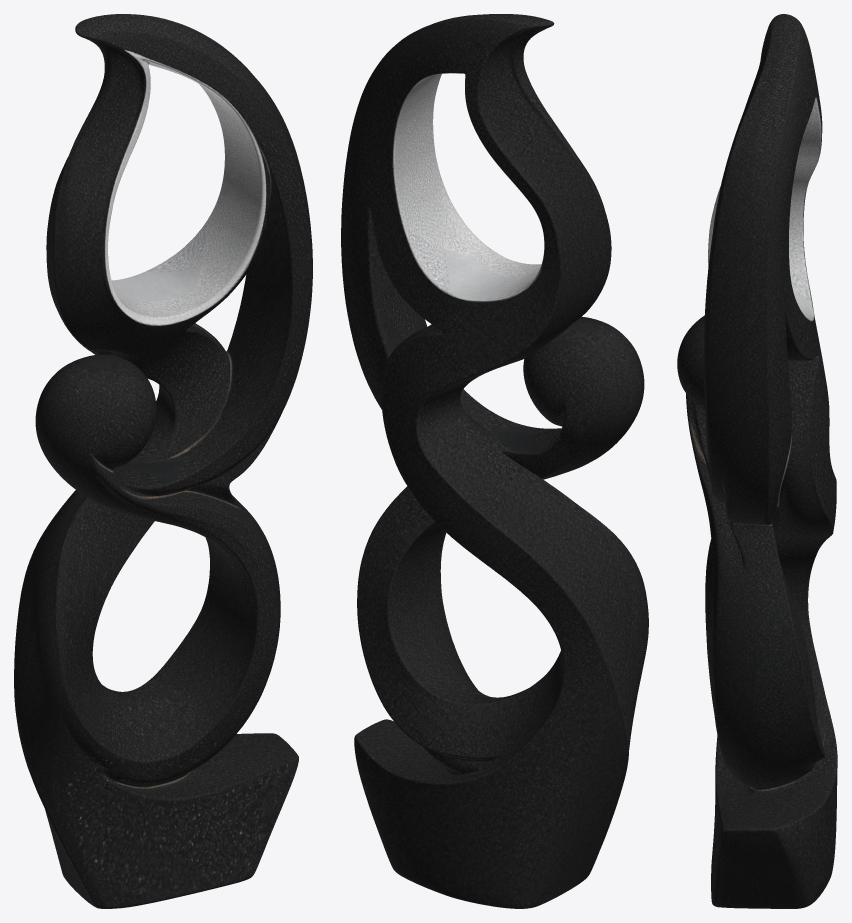
File: blooming-uploaded-v1.glb
3 renders of one model, left to right at view 1: azimuth 30°, elevation 25°; view 2: azimuth 150°, elevation 25°; view 3: azimuth 270°, elevation 25°, orthographic. The views are drawn at different scales.
Bounding box in the file's own units: 0.6464 × 1.9 × 0.3329.
1 material, 1 textured.
